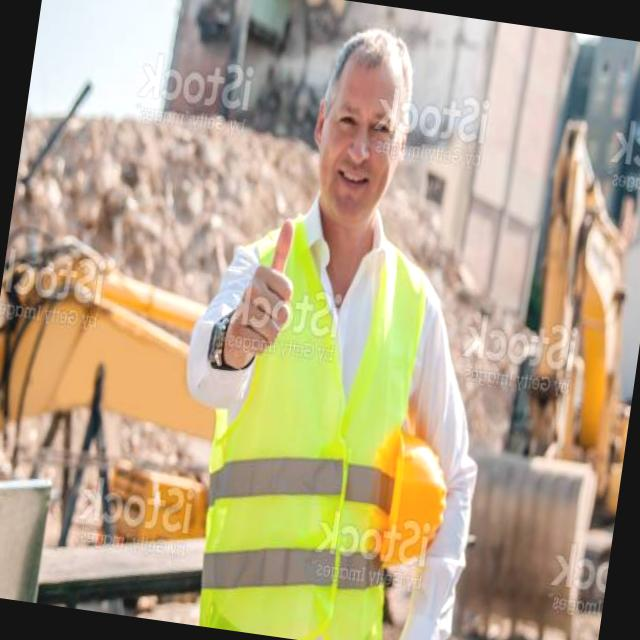goggles: (314, 94, 417, 164)
helmet: (380, 420, 455, 574)
no-helmet: (309, 20, 435, 134)
vest: (194, 211, 444, 640)
